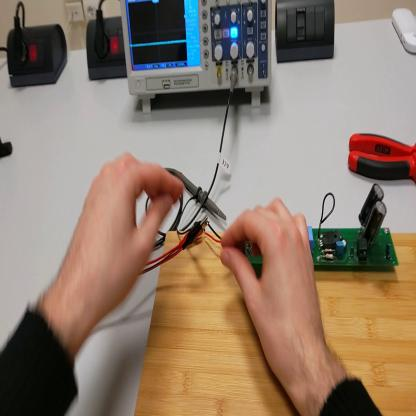hand: (221, 199, 331, 397), (65, 150, 183, 323)
high voltage board: (203, 182, 401, 271)
oscilloscope: (120, 1, 274, 114)
oscilloscope probe tip: (173, 164, 228, 219)
pliers: (346, 130, 416, 184)
socket: (8, 14, 68, 90), (86, 15, 129, 83)
working area: (135, 232, 416, 415)
